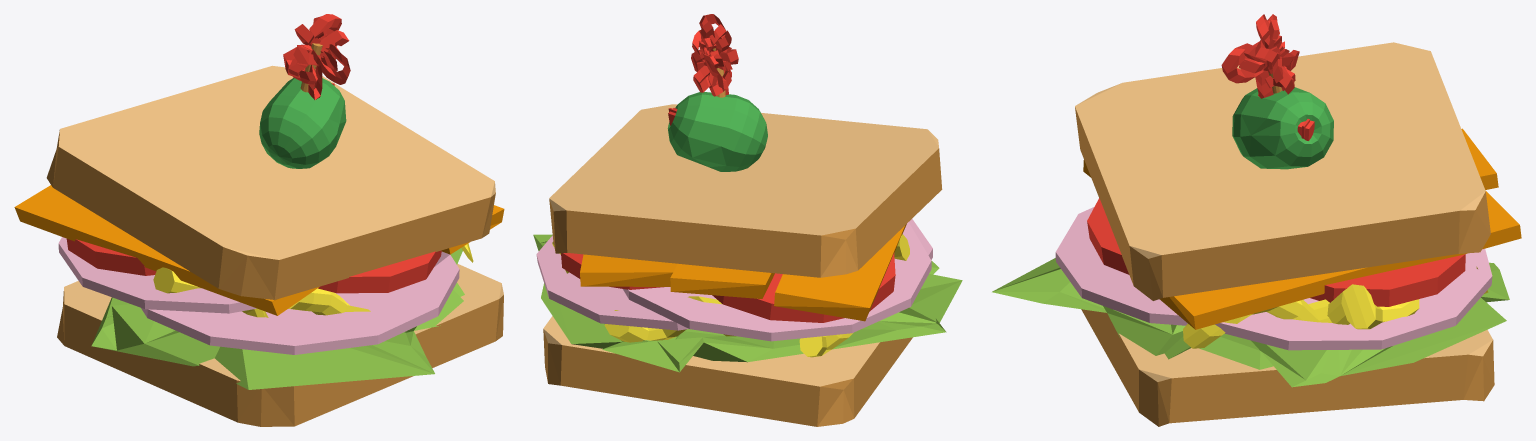
File: Sandwich-DmbrvrJX.glb
The picture shows the model from 3 angles, left to right: view 1: azimuth 30°, elevation 25°; view 2: azimuth 150°, elevation 25°; view 3: azimuth 270°, elevation 25°; orthographic projection. The views are drawn at different scales.
Visible parts, largest first — view 1: group996315631, group493156083, group1652087668, group789604699, group2144504536, group163460802, group1245344889, group1219547458, group2115907108, group339363366, group1537758740, group962325714 (+2 smaller); view 2: group996315631, group493156083, group1652087668, group1245344889, group163460802, group2144504536, group2046653683, group1490762755, group1206853561, group2115907108, group339363366, group1634290142 (+2 smaller); view 3: group996315631, group493156083, group1652087668, group2046653683, group1206853561, group163460802, group789604699, group381778915, group1270557434, group2115907108, group1219547458, group799905980 (+2 smaller).
Boxes of the visible parts, left/top/right/bottom form: group996315631: left=46, top=65, right=495, bottom=299; group493156083: left=57, top=264, right=503, bottom=426; group1652087668: left=91, top=248, right=464, bottom=389; group789604699: left=141, top=255, right=459, bottom=354; group2144504536: left=14, top=185, right=319, bottom=315; group163460802: left=259, top=78, right=346, bottom=168; group1245344889: left=58, top=237, right=256, bottom=313; group1219547458: left=318, top=250, right=441, bottom=293; group2115907108: left=283, top=14, right=349, bottom=81; group339363366: left=66, top=239, right=156, bottom=275; group1537758740: left=288, top=288, right=370, bottom=315; group962325714: left=153, top=267, right=268, bottom=317; group996315631: left=549, top=104, right=942, bottom=277; group493156083: left=543, top=316, right=912, bottom=426; group1652087668: left=533, top=234, right=962, bottom=372; group1245344889: left=623, top=222, right=931, bottom=341; group163460802: left=667, top=92, right=767, bottom=171; group2144504536: left=774, top=224, right=906, bottom=321; group2046653683: left=536, top=235, right=688, bottom=330; group1490762755: left=670, top=263, right=774, bottom=298; group1206853561: left=580, top=254, right=677, bottom=286; group2115907108: left=691, top=14, right=738, bottom=96; group339363366: left=712, top=252, right=895, bottom=322; group1634290142: left=604, top=296, right=735, bottom=342; group996315631: left=1075, top=42, right=1490, bottom=300; group493156083: left=1081, top=309, right=1494, bottom=426; group1652087668: left=992, top=258, right=1509, bottom=387; group2046653683: left=1215, top=248, right=1492, bottom=350; group1206853561: left=1159, top=190, right=1521, bottom=329; group163460802: left=1232, top=87, right=1333, bottom=169; group789604699: left=1055, top=207, right=1187, bottom=325; group381778915: left=1183, top=284, right=1419, bottom=348; group1270557434: left=1310, top=254, right=1465, bottom=306; group2115907108: left=1255, top=14, right=1299, bottom=94; group1219547458: left=1087, top=198, right=1129, bottom=274; group799905980: left=1221, top=41, right=1266, bottom=83.
Bounding box in the file's own units: 0.6628 × 0.5017 × 0.6853.
